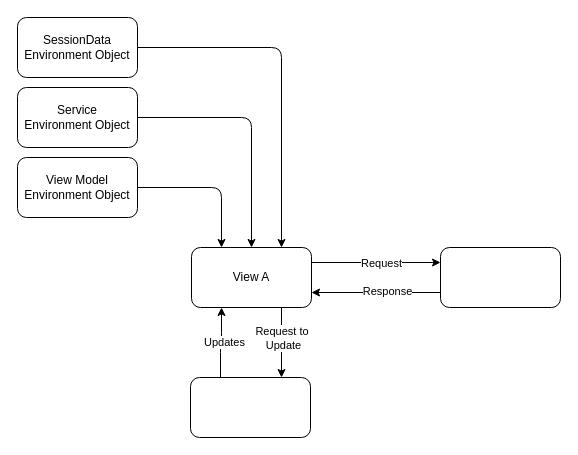
The diagram is 578 pixels wide and 455 high, and some of its shapes have lost their labels. The shapes that lost their labels are listed below. From the top down, each one's centre as x and y in pixels, then its label:
(x=500, y=277): Service
(x=250, y=407): ViewModel
